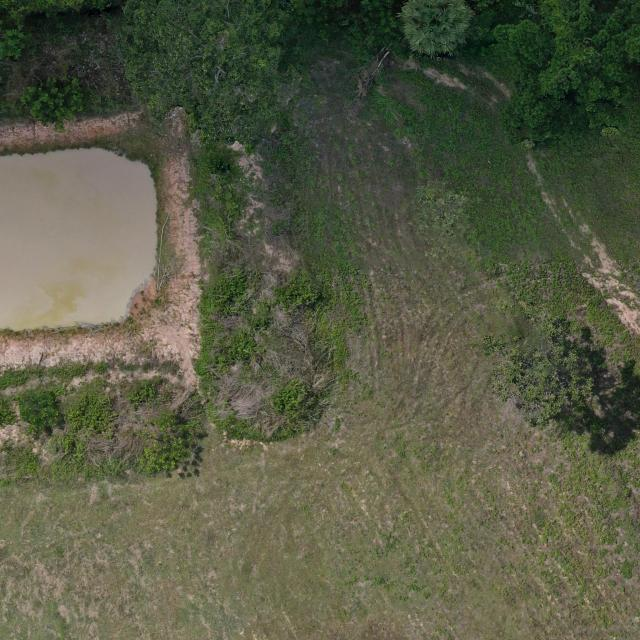Tree: (483, 315, 599, 431), (395, 0, 478, 58)
